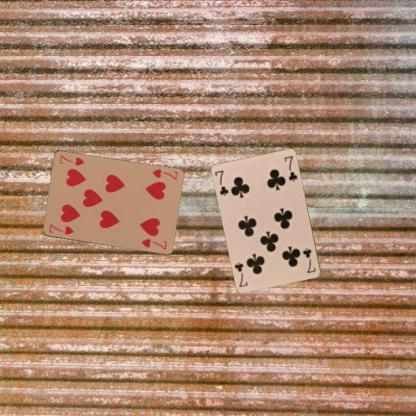7c: (212, 168, 231, 197), (300, 246, 318, 275)
7h: (150, 166, 178, 182), (46, 222, 75, 236)
